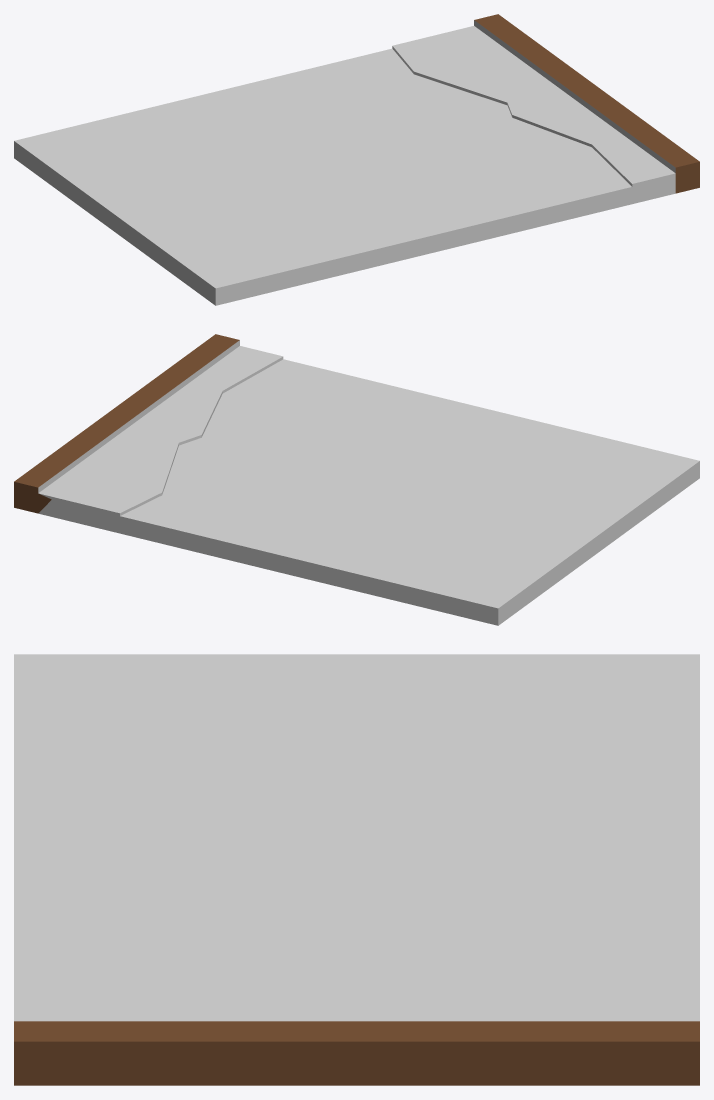
File: paper_pad.fbx
3 views of the same model, one above another, from view 1: azimuth 30°, elevation 25°; view 2: azimuth 150°, elevation 25°; view 3: azimuth 270°, elevation 25° (orthographic). The views are drawn at different scales.
Visible parts, largest first — view 1: paper_pad_export; view 2: paper_pad_export; view 3: paper_pad_export.
Part boxes in pixels (x1=…): paper_pad_export: x1=14, y1=14, x2=699, y2=305; paper_pad_export: x1=14, y1=334, x2=699, y2=625; paper_pad_export: x1=14, y1=654, x2=699, y2=1085.
Bounding box in the file's own units: 62.85 × 3.22 × 45.33.
